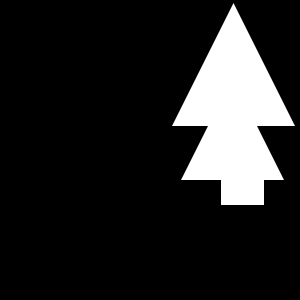circle: (221, 162, 264, 205)
triangle: (172, 3, 295, 126), (181, 77, 284, 180)
